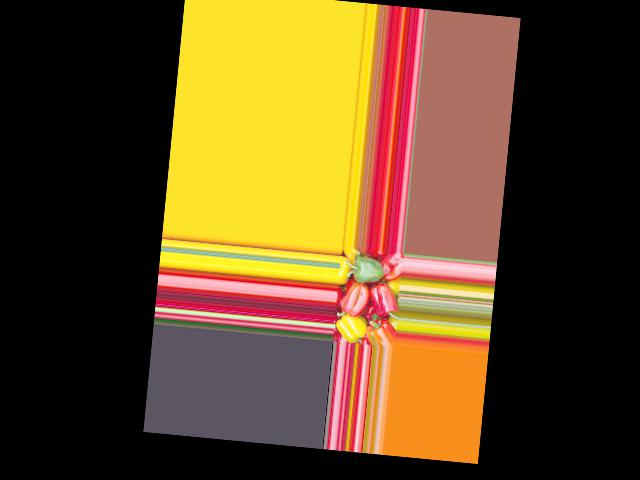bell_pepper: (333, 311, 370, 344)
